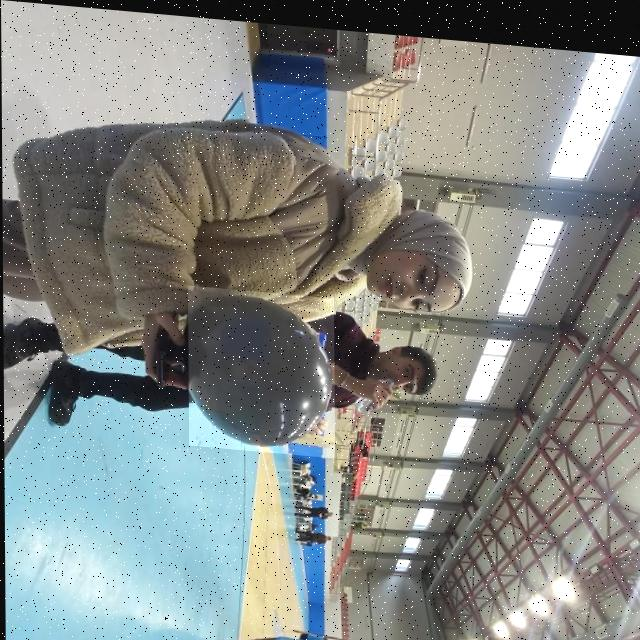balloon: (187, 282, 333, 452)
